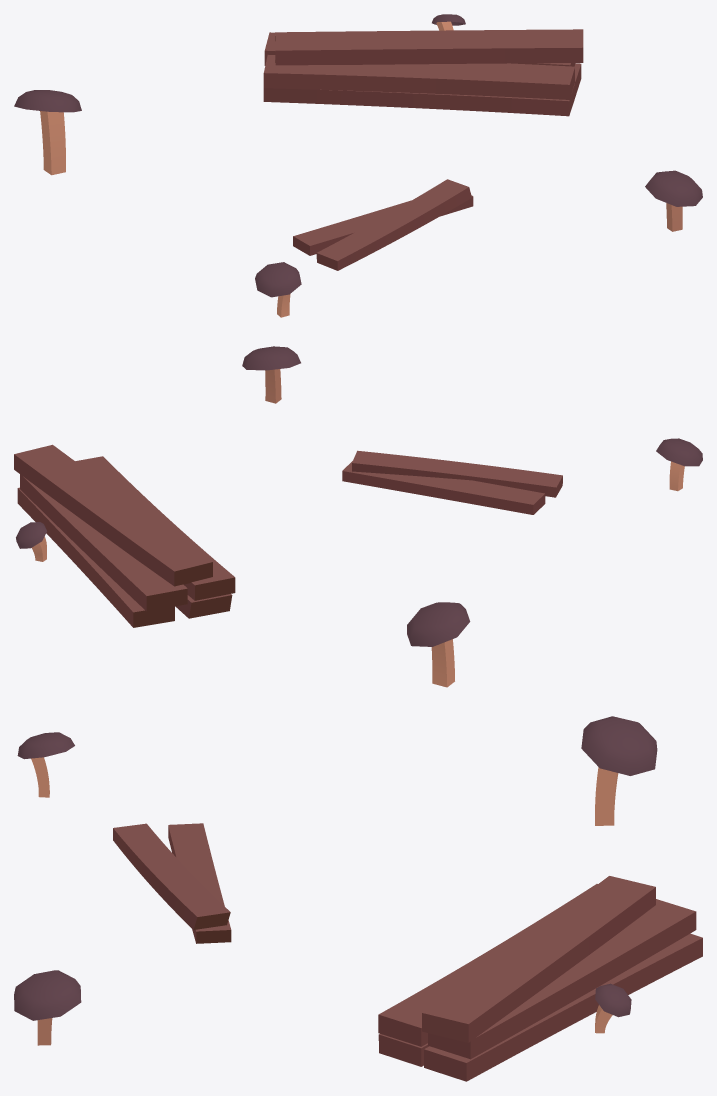
The model's file is House_Construction_2x2.glb.
The picture shows the model from 3 angles, top to bottom: view 1: azimuth 30°, elevation 25°; view 2: azimuth 150°, elevation 25°; view 3: azimuth 270°, elevation 25°; orthographic projection. The views are drawn at different scales.
Visible parts, largest first — view 1: Cube.023, Cube.020, Cube.018, Cube.025, Cube.024, Cube.022, Cube.014, Cube.012, Cube.016; view 2: Cube.023, Cube.021, Cube.025, Cube.024, Cube.019, Cube.020, Cube.016, Cube.022, Cube.014, Cube.012, Cube.018, Cube.017 (+1 smaller); view 3: Cube.023, Cube.021, Cube.019, Cube.025, Cube.020, Cube.016, Cube.024, Cube.022, Cube.014, Cube.012, Cube.018, Cube.017.
Part boxes in pixels (left/top/right/bottom): Cube.023: left=275, top=29, right=583, bottom=65; Cube.020: left=263, top=55, right=574, bottom=99; Cube.018: left=263, top=83, right=575, bottom=116; Cube.025: left=316, top=179, right=471, bottom=270; Cube.024: left=293, top=195, right=473, bottom=255; Cube.022: left=645, top=170, right=702, bottom=206; Cube.014: left=40, top=111, right=65, bottom=175; Cube.012: left=255, top=262, right=301, bottom=297; Cube.016: left=14, top=90, right=81, bottom=112; Cube.023: left=14, top=444, right=212, bottom=586; Cube.021: left=20, top=474, right=187, bottom=611; Cube.025: left=352, top=450, right=562, bottom=497; Cube.024: left=342, top=461, right=545, bottom=514; Cube.019: left=17, top=487, right=174, bottom=627; Cube.020: left=75, top=456, right=235, bottom=600; Cube.016: left=407, top=602, right=470, bottom=646; Cube.022: left=242, top=346, right=300, bottom=370; Cube.014: left=431, top=639, right=454, bottom=687; Cube.012: left=656, top=438, right=702, bottom=466; Cube.018: left=175, top=594, right=232, bottom=618; Cube.017: left=16, top=522, right=46, bottom=548; Cube.023: left=422, top=876, right=655, bottom=1042; Cube.021: left=428, top=899, right=696, bottom=1059; Cube.019: left=424, top=933, right=702, bottom=1081; Cube.025: left=113, top=823, right=230, bottom=929; Cube.020: left=378, top=884, right=597, bottom=1046; Cube.016: left=581, top=716, right=657, bottom=775; Cube.024: left=168, top=823, right=231, bottom=943; Cube.022: left=14, top=970, right=81, bottom=1020; Cube.014: left=595, top=767, right=618, bottom=825; Cube.012: left=17, top=732, right=74, bottom=759; Cube.018: left=378, top=1034, right=428, bottom=1066; Cube.017: left=595, top=983, right=631, bottom=1017.
Bounding box in the file's own units: 2.5 × 0.373 × 2.41.
Materials: 1 (1 with a texture image).
